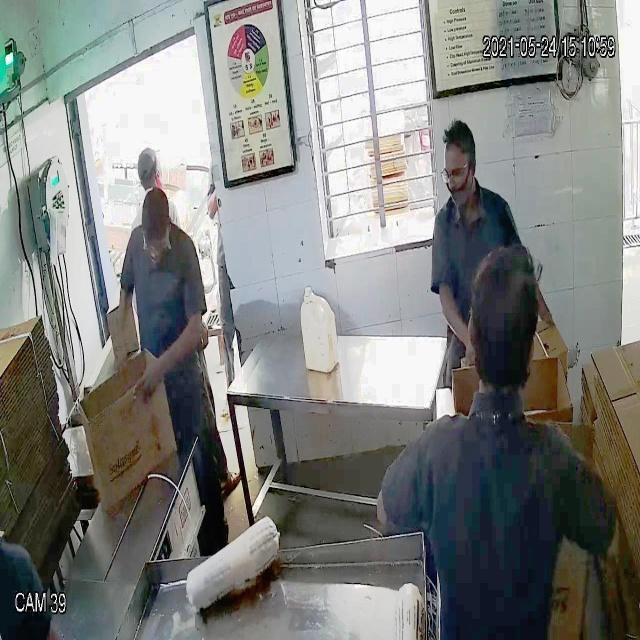Gafas: (441, 158, 477, 187)
